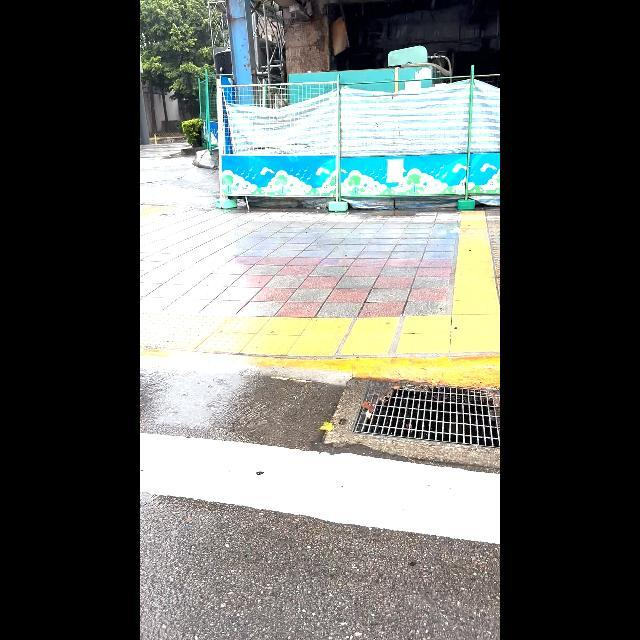sidewalk: (141, 345, 500, 639)
